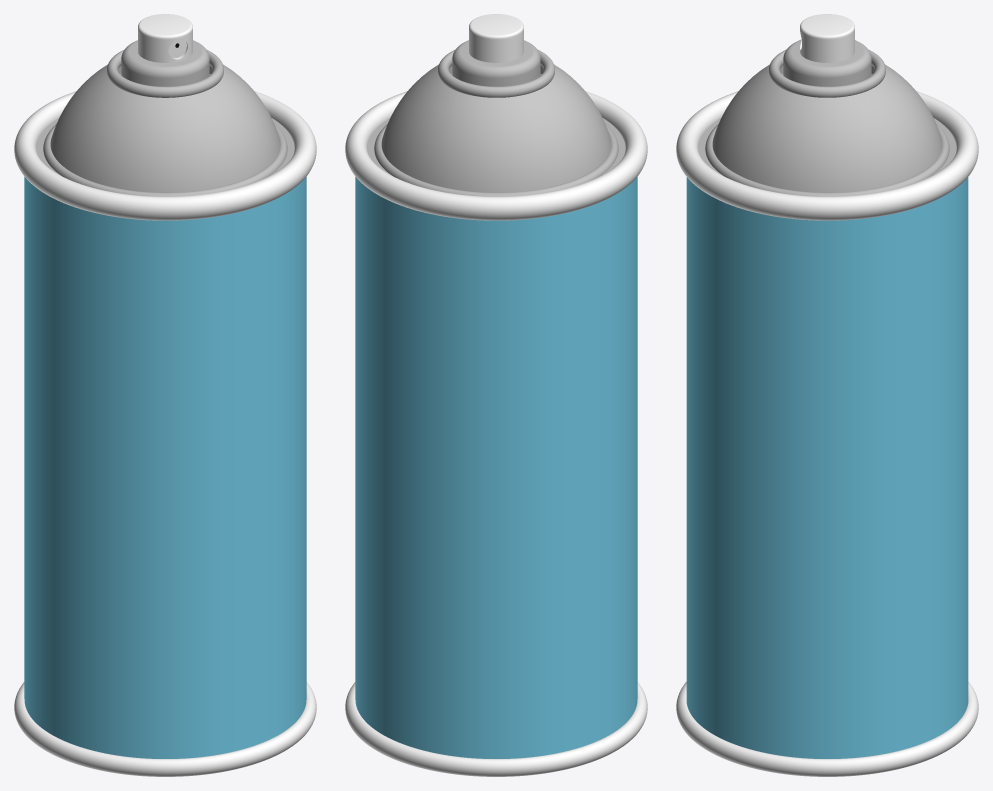
Rendered from spray can.fbx.
The picture shows the model from 3 angles, left to right: view 1: azimuth 30°, elevation 25°; view 2: azimuth 150°, elevation 25°; view 3: azimuth 270°, elevation 25°; orthographic projection.
Visible parts, largest first — view 1: Cylinder.2, Sphere.1, Torus, Torus.3, Cylinder.1, Cylinder, Torus.1, Torus.2, Disc.2; view 2: Cylinder.2, Sphere.1, Torus, Torus.3, Cylinder.1, Cylinder, Torus.1, Torus.2, Disc.2; view 3: Cylinder.2, Sphere.1, Torus, Torus.3, Cylinder.1, Cylinder, Torus.1, Torus.2, Disc.2.
Boxes of the visible parts, box(x1,y1,x2,y2) form: Cylinder.2: box(24, 176, 306, 758); Sphere.1: box(50, 64, 280, 192); Torus: box(14, 91, 316, 220); Torus.3: box(14, 682, 316, 776); Cylinder.1: box(121, 40, 209, 86); Cylinder: box(138, 14, 192, 62); Torus.1: box(43, 123, 287, 196); Torus.2: box(107, 50, 223, 97); Disc.2: box(36, 118, 294, 175); Cylinder.2: box(355, 176, 637, 758); Sphere.1: box(381, 64, 611, 192); Torus: box(345, 91, 647, 220); Torus.3: box(345, 682, 647, 776); Cylinder.1: box(452, 40, 540, 86); Cylinder: box(469, 14, 523, 62); Torus.1: box(374, 123, 618, 196); Torus.2: box(438, 49, 554, 97); Disc.2: box(367, 118, 625, 175); Cylinder.2: box(686, 177, 968, 758); Sphere.1: box(712, 64, 942, 192); Torus: box(676, 91, 978, 220); Torus.3: box(676, 682, 978, 776); Cylinder.1: box(783, 39, 871, 86); Cylinder: box(800, 14, 854, 62); Torus.1: box(705, 124, 949, 196); Torus.2: box(769, 49, 885, 97); Disc.2: box(698, 118, 956, 175).
Bounding box in the file's own units: 42.98 × 108 × 42.98.
